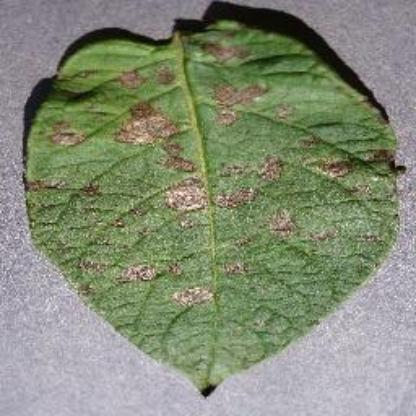Early-Blight: (26, 12, 408, 396)
